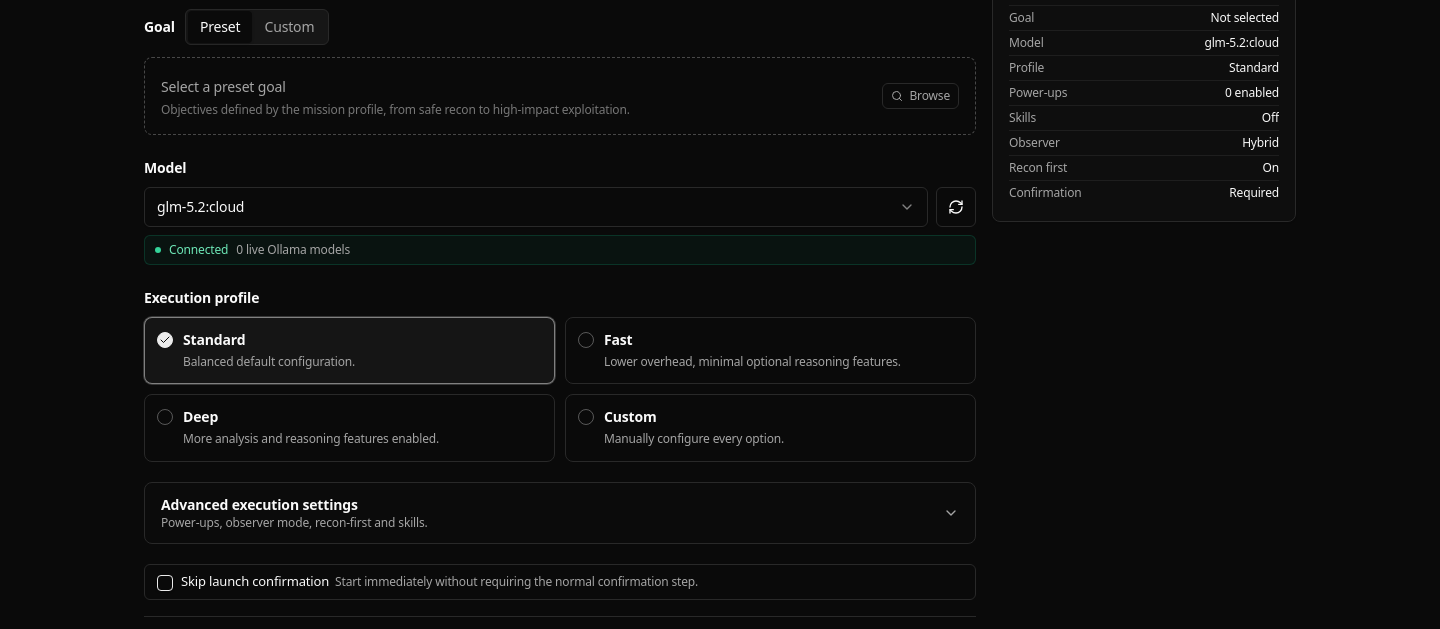
Test: RunWizard › hides power-ups whose backend flag is absent
(page scrolled)
Click the button "Advanced execution settings": point(259, 504) x1=145 y1=482 x2=975 y2=542
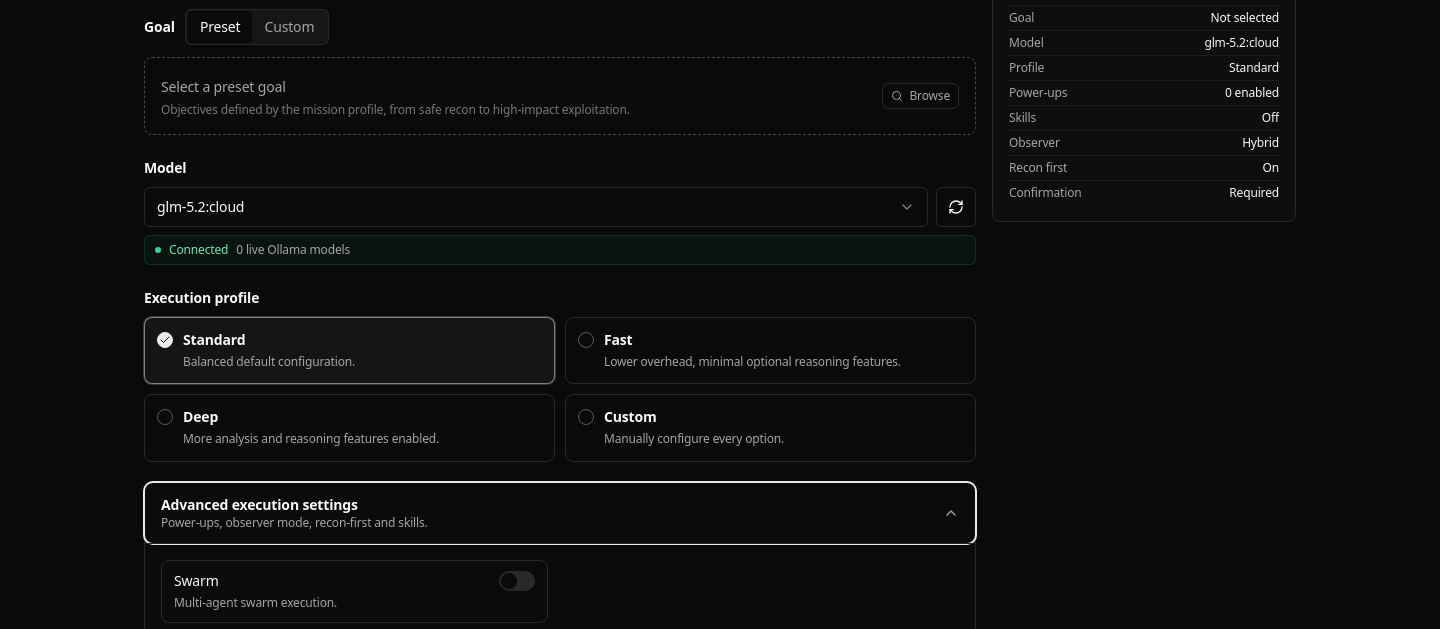
Check: the switch named "Swarm" is shown, box x1=499 y1=570 x2=535 y2=590
